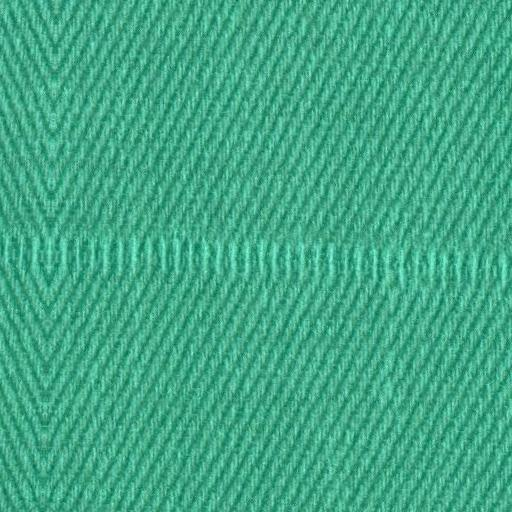slub: (1, 224, 512, 307)
